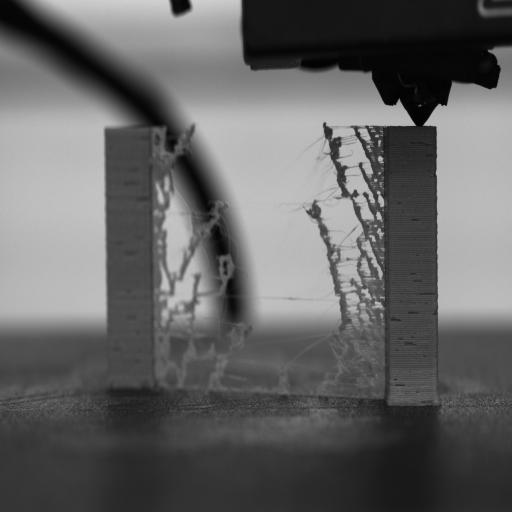spaghetti_and_stringing: (288, 120, 392, 391), (147, 122, 247, 392)
